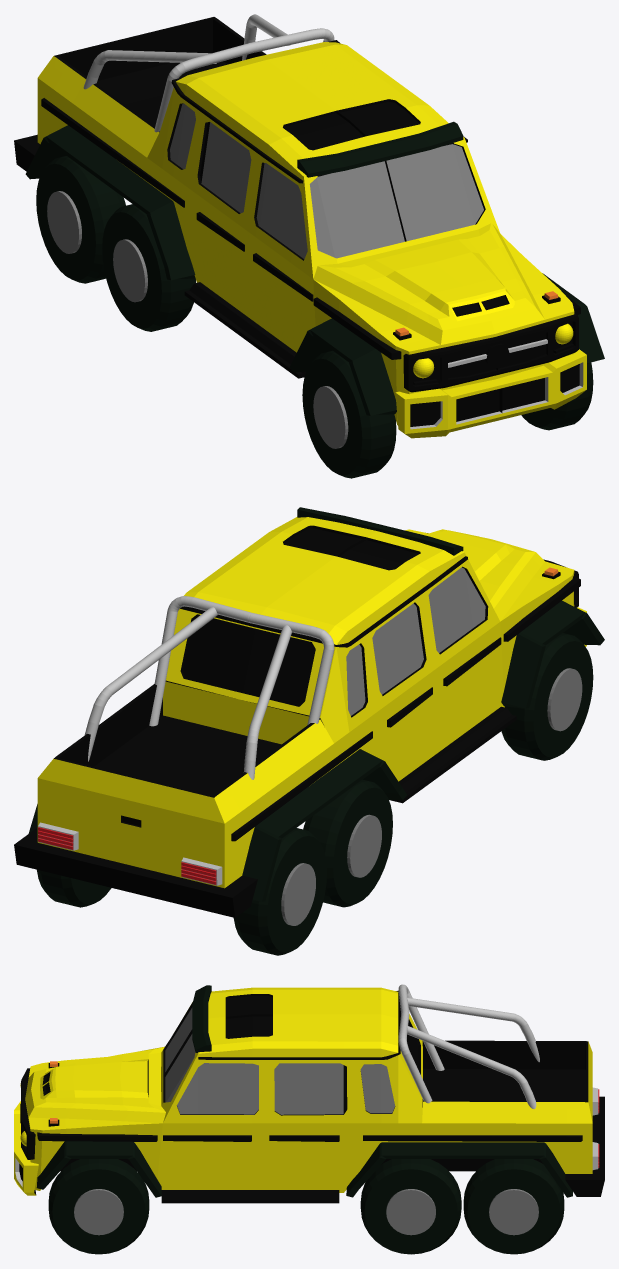
File: Авто №5.fbx
3 renders of one model, top to bottom at view 1: azimuth 30°, elevation 25°; view 2: azimuth 150°, elevation 25°; view 3: azimuth 270°, elevation 25°, orthographic. The views are drawn at different scales.
Parts seen in each view (by area): view 1: Cube, Cylinder.003, Cylinder.005, Cylinder.004, Cylinder; view 2: Cube, Cylinder.004, Cylinder.003, Cylinder.005, Cylinder.002; view 3: Cube, Cylinder, Cylinder.001, Cylinder.002.
Part boxes in pixels (x1,y1,x2,y2): Cube: (14,14,604,438); Cylinder.003: (302,350,396,478); Cylinder.005: (36,156,125,283); Cylinder.004: (102,204,195,331); Cylinder: (521,362,593,430); Cube: (14,507,604,917); Cylinder.004: (303,779,392,907); Cylinder.003: (501,633,593,760); Cylinder.005: (233,828,326,955); Cylinder.002: (37,869,111,907); Cube: (14,984,604,1203); Cylinder: (48,1159,149,1254); Cylinder.001: (360,1159,461,1254); Cylinder.002: (463,1159,564,1254).
Bounding box in the file's own units: 119 × 125 × 329.
